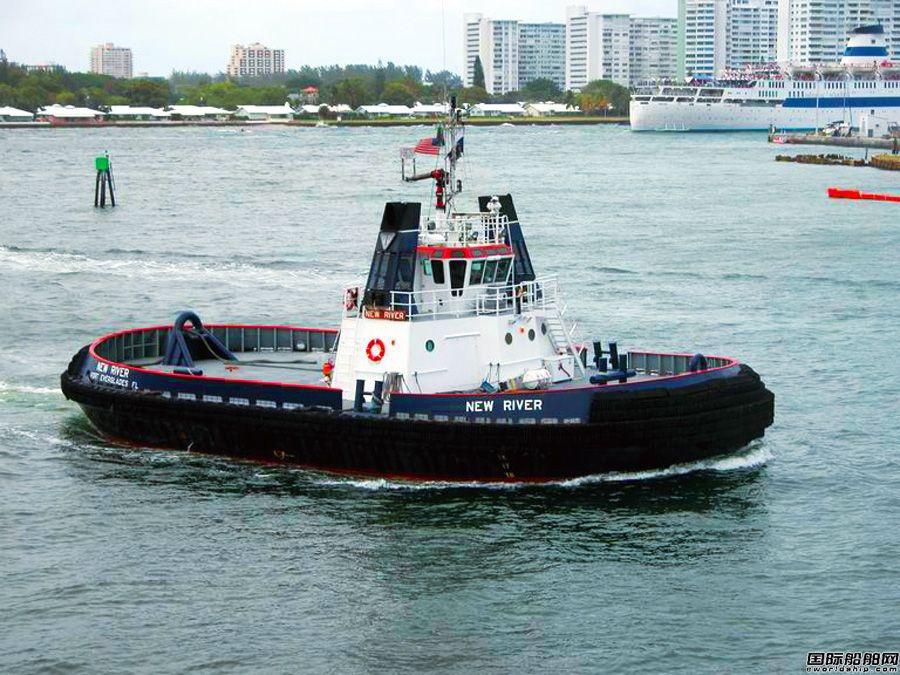otherboat: (50, 131, 780, 487)
